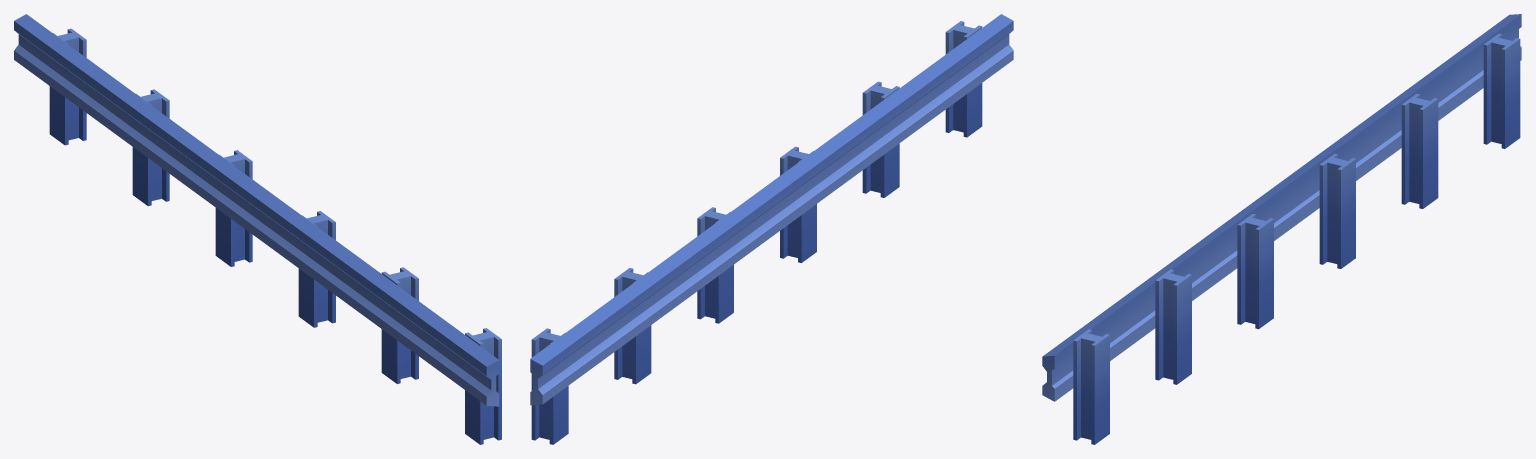
File: RoadBarier_2_A_1.fbx
The picture shows the model from 3 angles, left to right: view 1: azimuth 30°, elevation 25°; view 2: azimuth 150°, elevation 25°; view 3: azimuth 330°, elevation 25°; orthographic projection.
Parts seen in each view (by area): view 1: RoadBarier_2_A_1; view 2: RoadBarier_2_A_1; view 3: RoadBarier_2_A_1.
Boxes of the visible parts, x1,y1,x2,y2 form: RoadBarier_2_A_1: [14, 14, 501, 444]; RoadBarier_2_A_1: [530, 14, 1013, 444]; RoadBarier_2_A_1: [1042, 14, 1521, 444].
Size of the model in its own units: 25.02 by 73.47 by 600.
